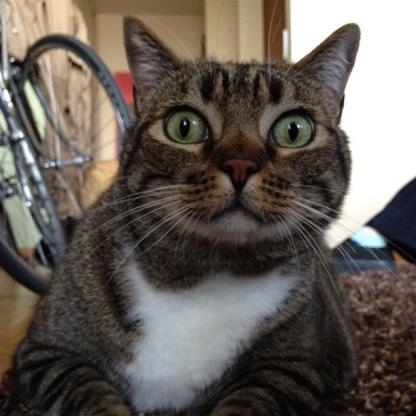Target: (14, 13, 366, 416)
